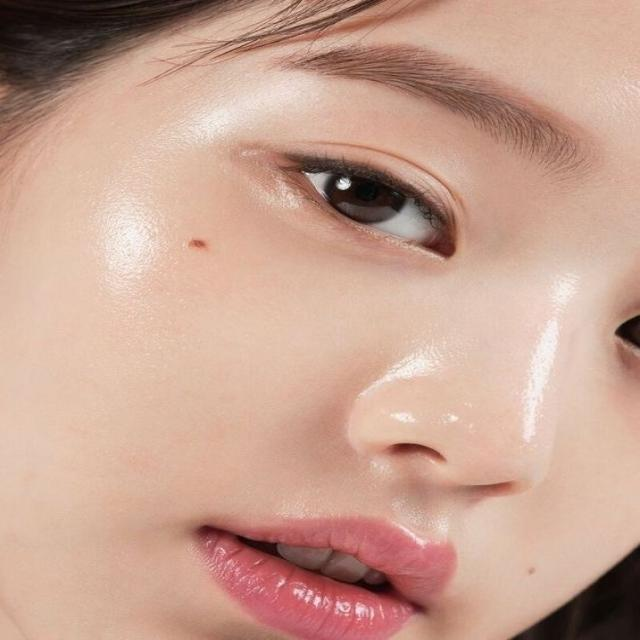Oily-Skin: (50, 179, 275, 523), (425, 281, 571, 481)
